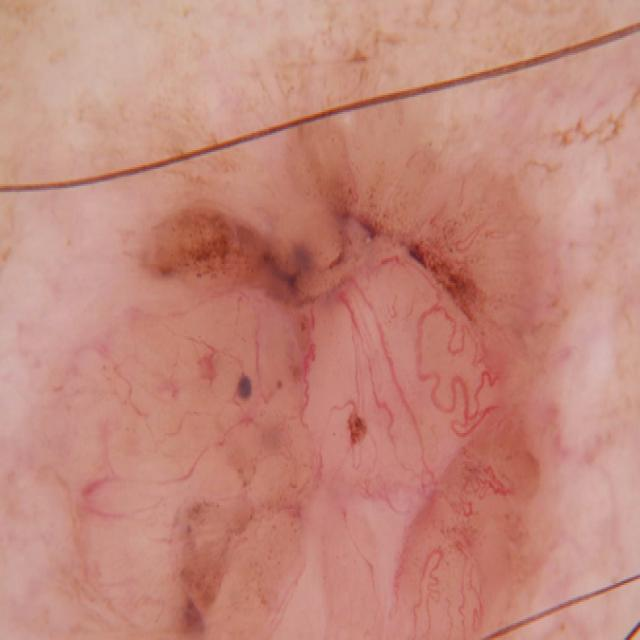Carcinoma: (82, 199, 557, 640)
